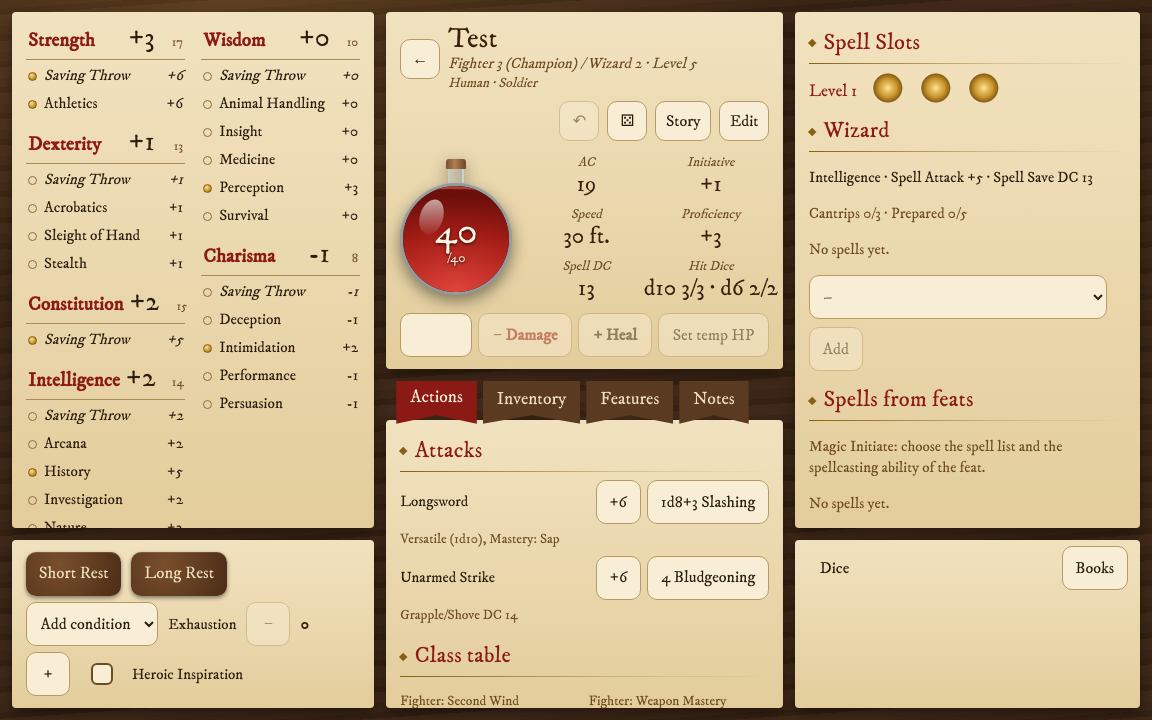
Test case: sheet › takes damage, offers to undo it, and saves both
Check: the element with test id "hp" is shown, box top-left (435, 208), bottom-right (478, 267)
Type "7" into the number field named "Amount" at (436, 335), box top-left (400, 313), bottom-right (472, 357)
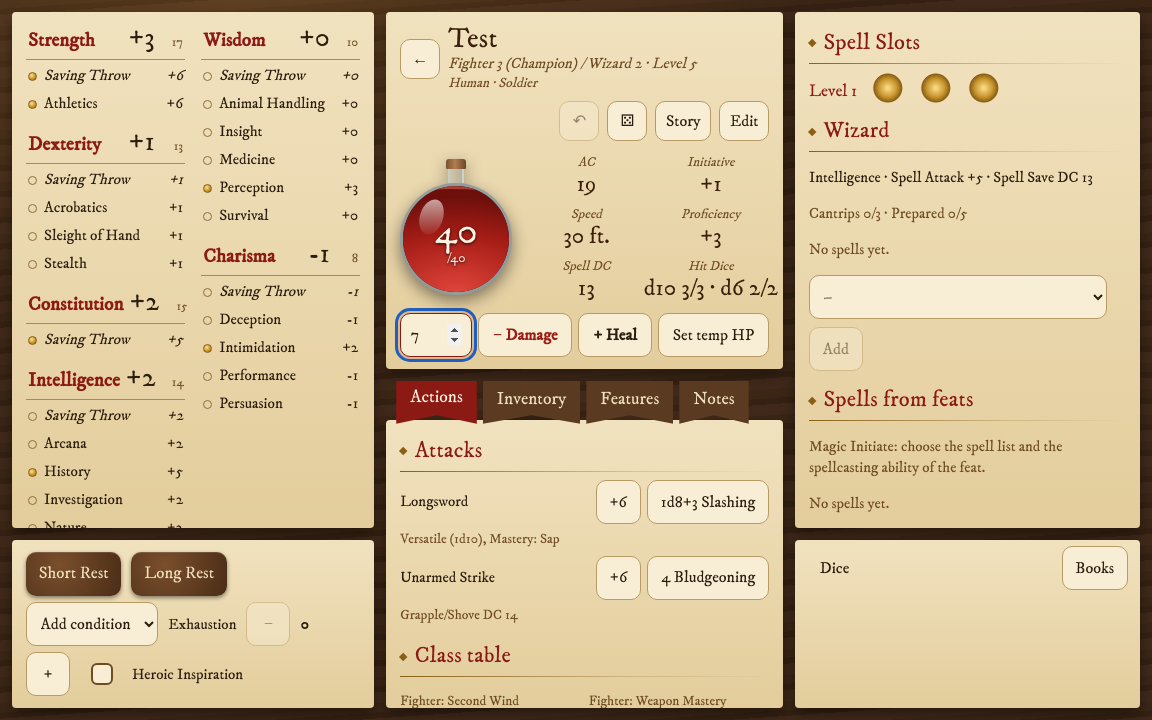
Click the button "− Damage" at (525, 335), box top-left (478, 313), bottom-right (572, 357)
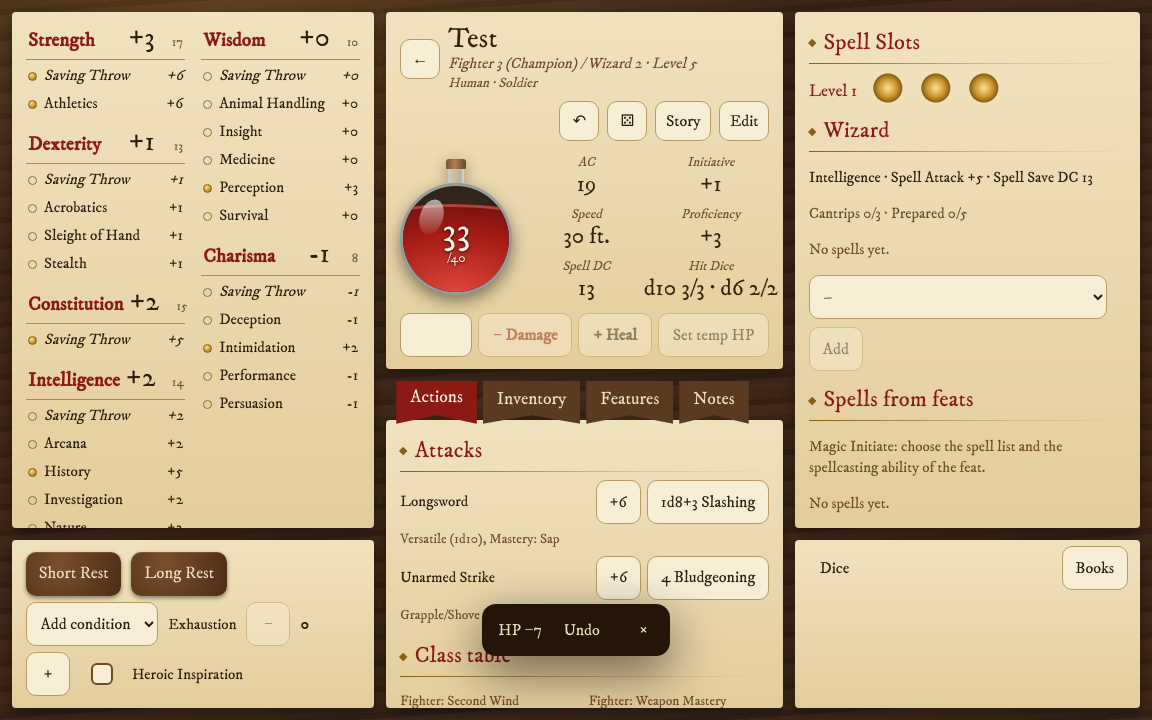
Check: the element with test id "hp" reads "33 /40", box top-left (442, 208), bottom-right (471, 267)
Check: the text "HP −7" is shown, box top-left (498, 619), bottom-right (542, 641)
Click the button "Undo" at (582, 630), box top-left (550, 608), bottom-right (614, 652)
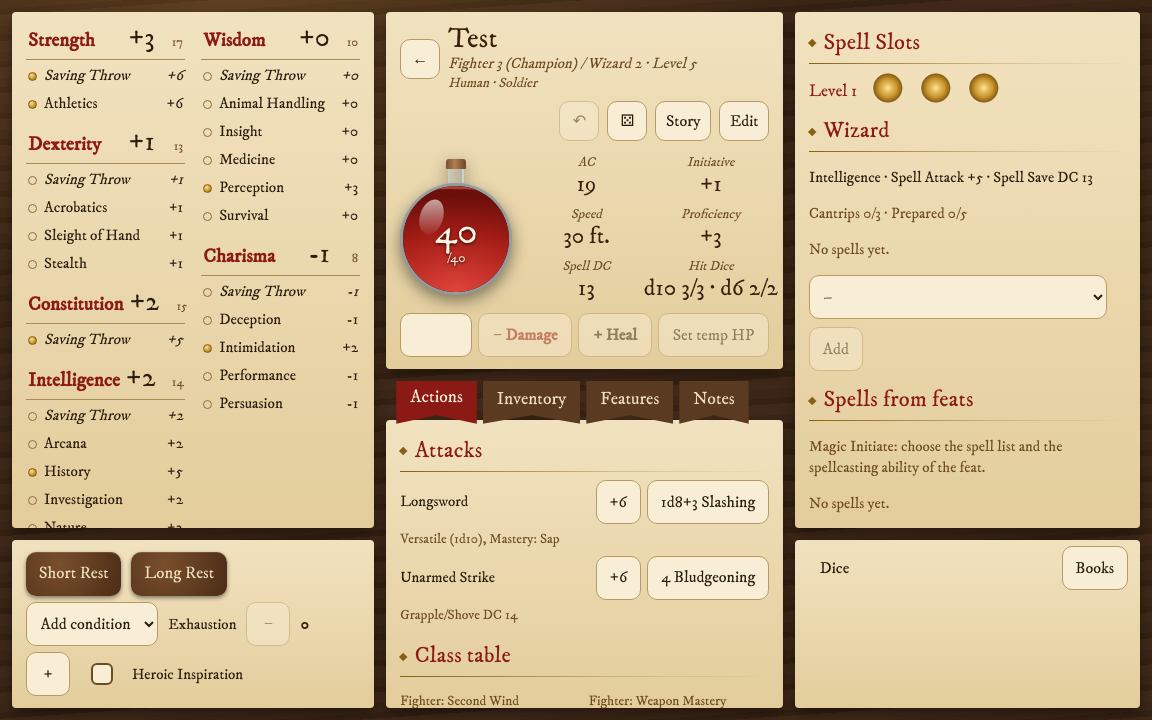
Check: the element with test id "hp" reads "40 /40", box top-left (435, 208), bottom-right (478, 267)
